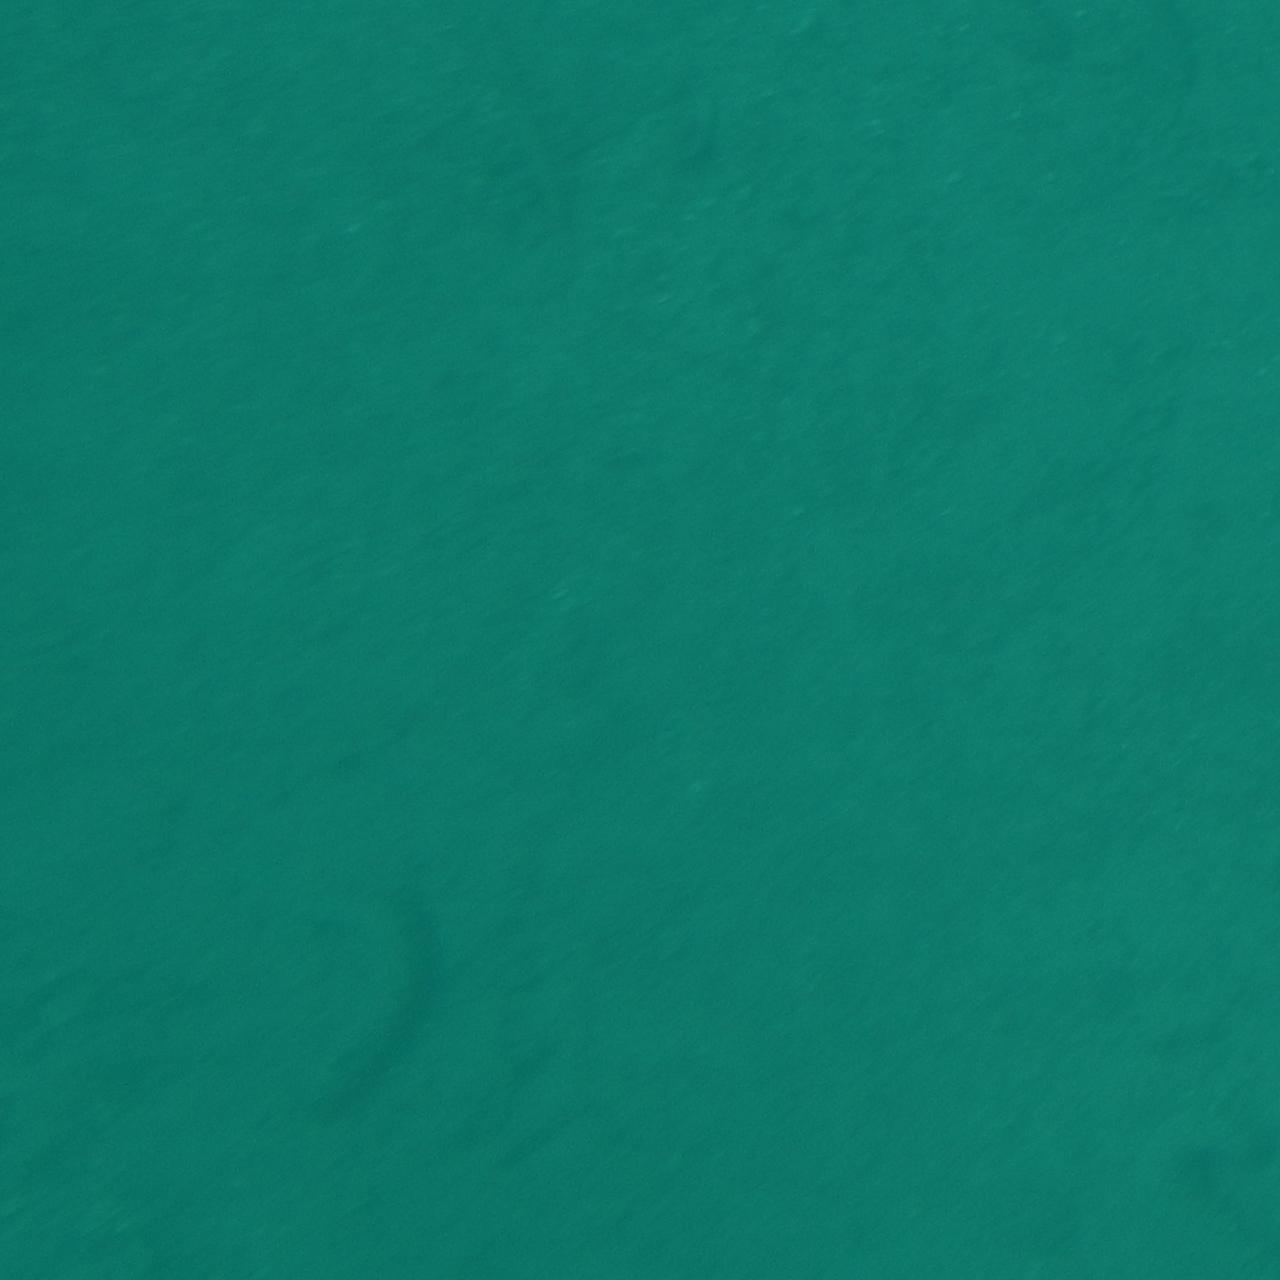Holothuria tubulosa: (277, 890, 431, 1141)
